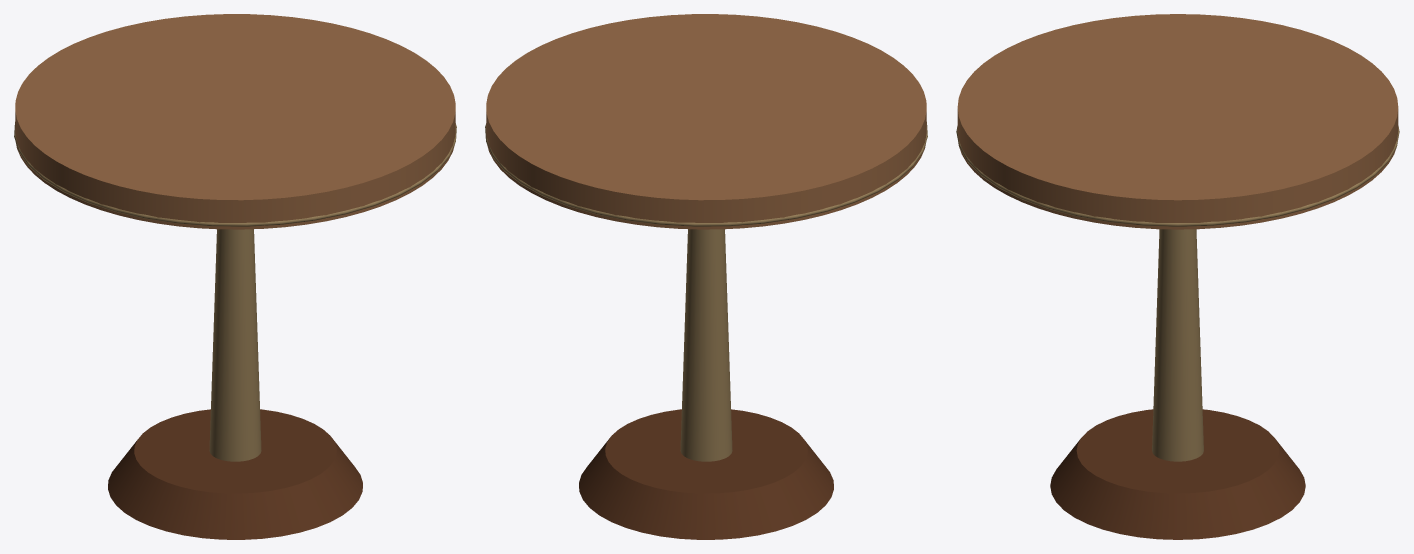
Rendered from window-drinks-table.glb.
3 renders of one model, left to right at view 1: azimuth 30°, elevation 25°; view 2: azimuth 150°, elevation 25°; view 3: azimuth 270°, elevation 25°, orthographic.
Parts seen in each view (by area): view 1: part::window-drinks-table/round-honed-top-001, part::window-drinks-table/splayed-pedestal-foot-001, part::window-drinks-table/tapered-pedestal-001, part::window-drinks-table/brass-tabletop-reveal-001; view 2: part::window-drinks-table/round-honed-top-001, part::window-drinks-table/splayed-pedestal-foot-001, part::window-drinks-table/tapered-pedestal-001, part::window-drinks-table/brass-tabletop-reveal-001; view 3: part::window-drinks-table/round-honed-top-001, part::window-drinks-table/splayed-pedestal-foot-001, part::window-drinks-table/tapered-pedestal-001, part::window-drinks-table/brass-tabletop-reveal-001.
Part boxes in pixels (bbox=[...]): part::window-drinks-table/round-honed-top-001: bbox=[15, 14, 455, 229]; part::window-drinks-table/splayed-pedestal-foot-001: bbox=[108, 409, 362, 539]; part::window-drinks-table/tapered-pedestal-001: bbox=[209, 229, 261, 461]; part::window-drinks-table/brass-tabletop-reveal-001: bbox=[14, 122, 456, 226]; part::window-drinks-table/round-honed-top-001: bbox=[486, 14, 926, 229]; part::window-drinks-table/splayed-pedestal-foot-001: bbox=[579, 409, 833, 539]; part::window-drinks-table/tapered-pedestal-001: bbox=[680, 229, 732, 461]; part::window-drinks-table/brass-tabletop-reveal-001: bbox=[485, 122, 927, 226]; part::window-drinks-table/round-honed-top-001: bbox=[957, 14, 1398, 229]; part::window-drinks-table/splayed-pedestal-foot-001: bbox=[1050, 409, 1305, 539]; part::window-drinks-table/tapered-pedestal-001: bbox=[1152, 229, 1203, 461]; part::window-drinks-table/brass-tabletop-reveal-001: bbox=[956, 126, 1399, 226].
Size of the model in its own units: 0.684 by 0.645 by 0.684.
